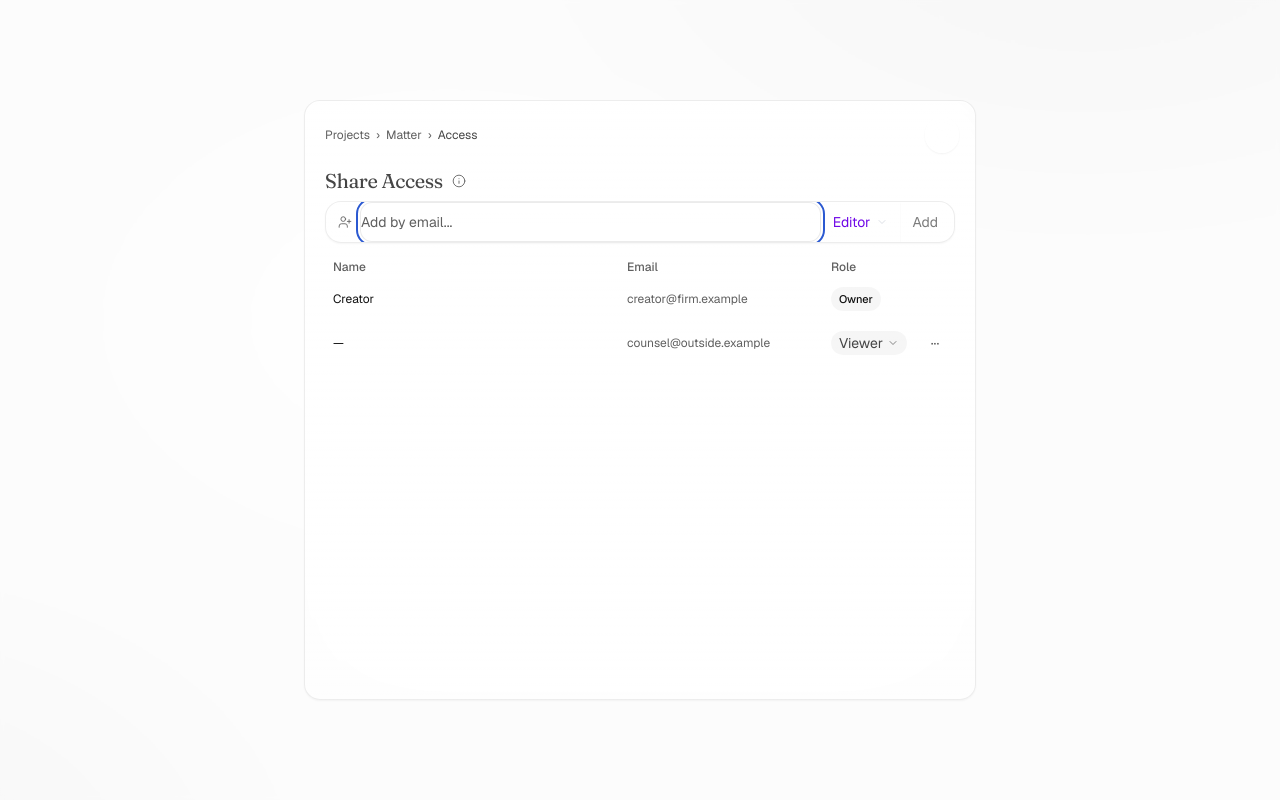
Test case: AccessModal — per-recipient roles › surfaces the server's message when a re-role is refused
Click the button with aria-label "Role for counsel@outside.example": (869,343) [831,331,907,355]
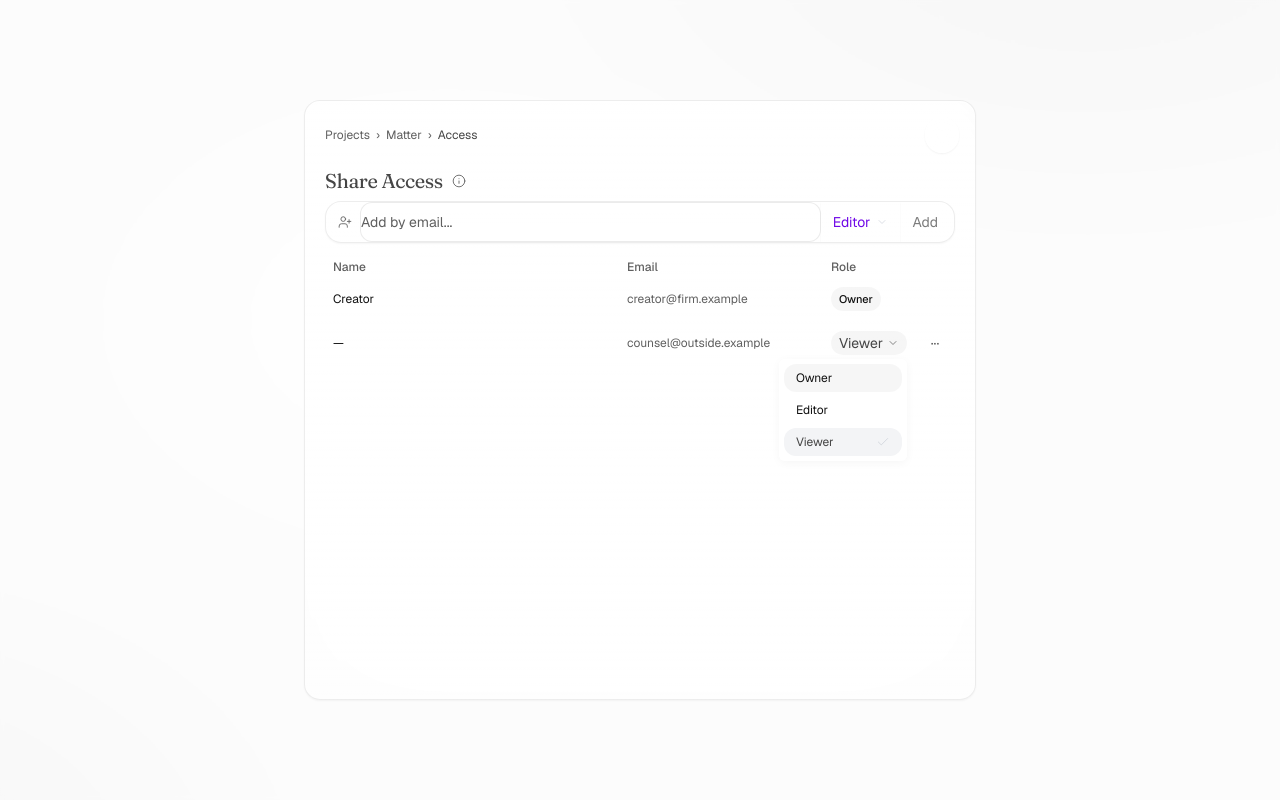
Click the menu item "Owner": (843,378) [784,364,902,392]
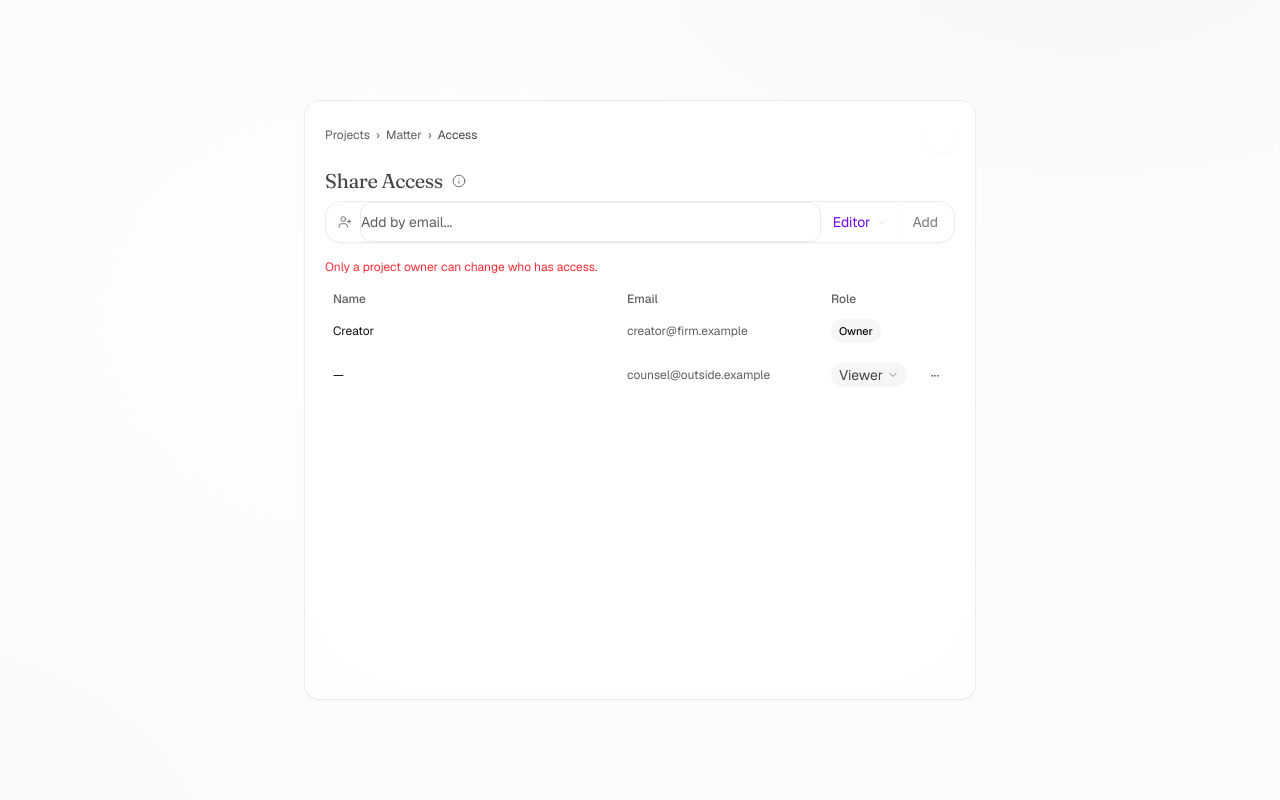
expect the text "Only a project owner can change who has access." is shown: met, box [325,259,598,275]
